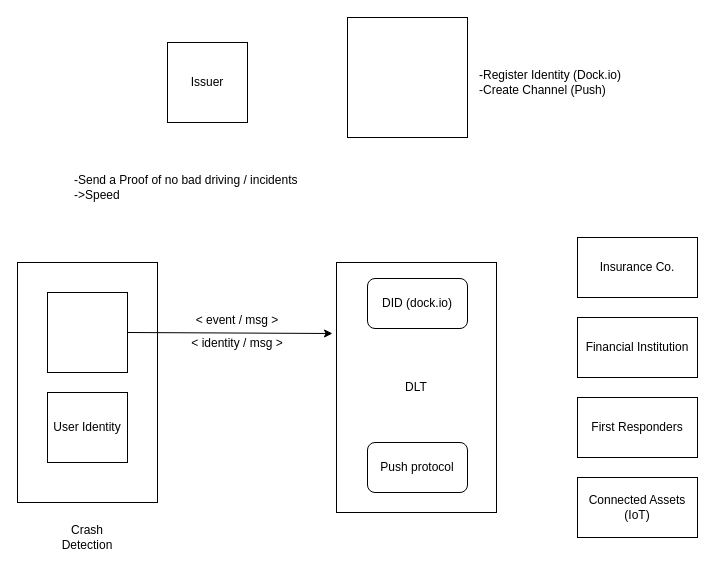
This 715x570 diagram has some shape labels left out. Here are the shapes that lost their labels. From the top down, the box of each, then its label:
(346, 16, 468, 138): DApp
(46, 292, 128, 372): Car
